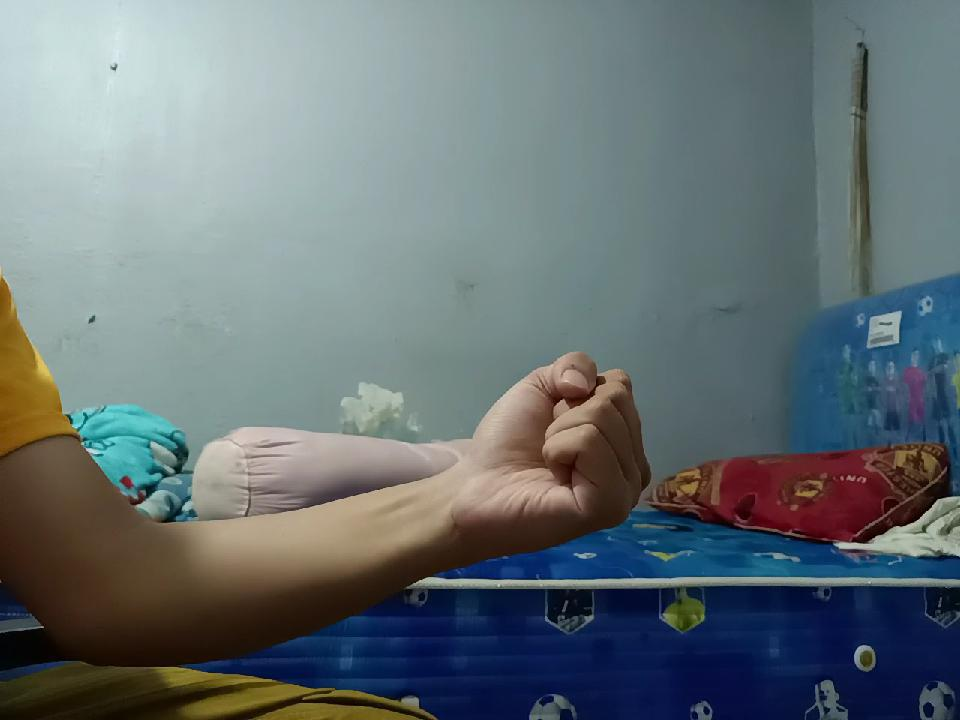rock: (458, 348, 663, 553)
